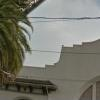Tree: (0, 0, 46, 88)
